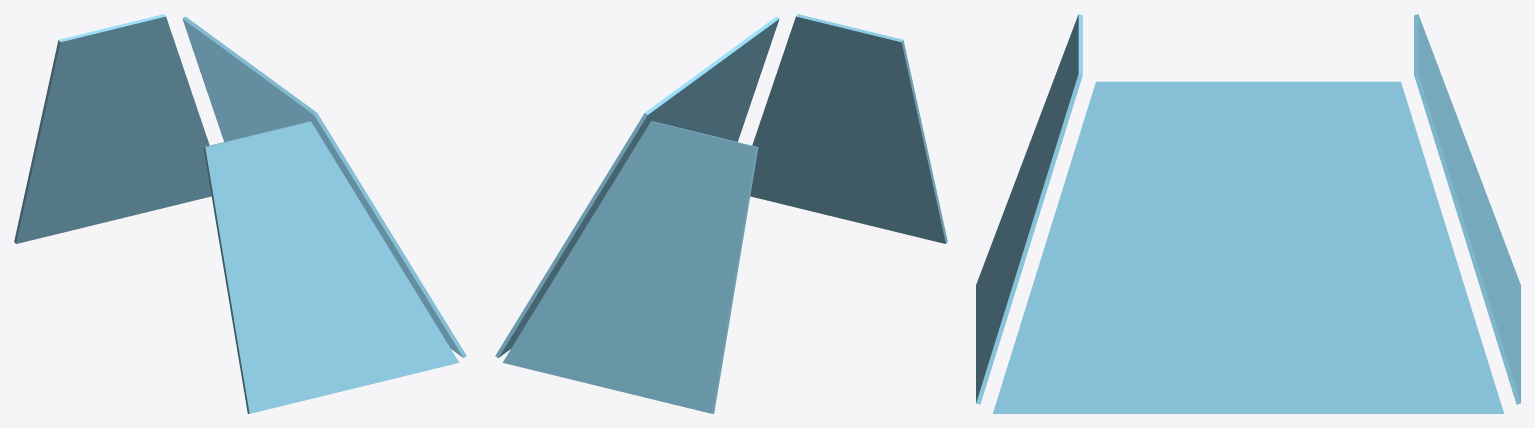
The model's file is Windows.glb.
The picture shows the model from 3 angles, left to right: view 1: azimuth 30°, elevation 25°; view 2: azimuth 150°, elevation 25°; view 3: azimuth 270°, elevation 25°; orthographic projection. The views are drawn at different scales.
Parts seen in each view (by area): view 1: Cube.126; view 2: Cube.126; view 3: Cube.126.
Boxes of the visible parts, x1=… form: Cube.126: x1=14, y1=14, x2=466, y2=413; Cube.126: x1=495, y1=14, x2=947, y2=413; Cube.126: x1=976, y1=14, x2=1520, y2=413.
Size of the model in its own units: 0.0327 by 0.0331 by 0.0594.
1 material, 1 textured.
